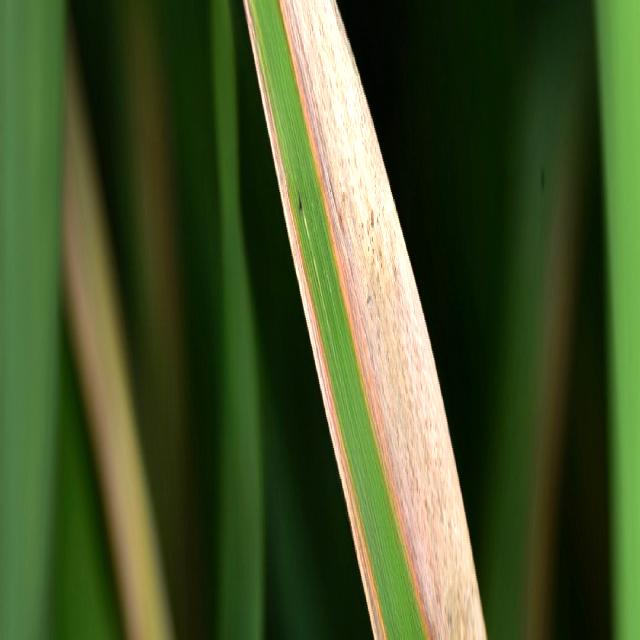BLB: (278, 0, 486, 640), (244, 0, 388, 640)
